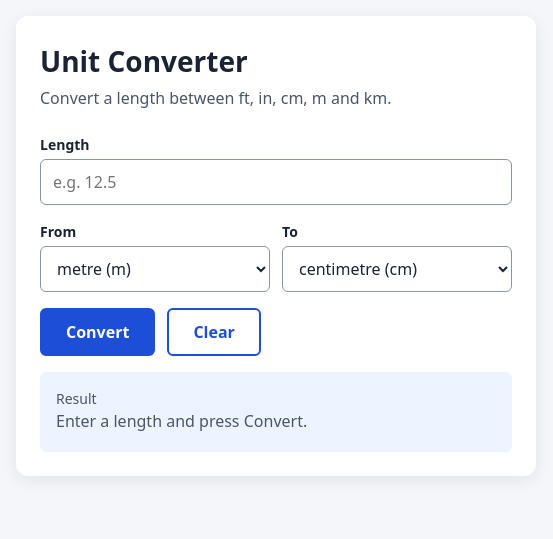
S4: inline error messages › S4: input -5 + Convert shows Length cannot be negative and no result
In the field labelled "Length": (276, 182) [40,159,512,205], type "-5"
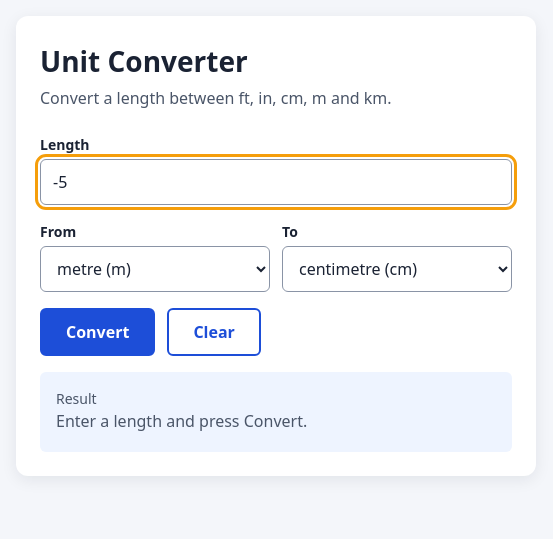
Select "metre (m)" in the dropdown labelled "From": (155, 269) [40,246,270,292]
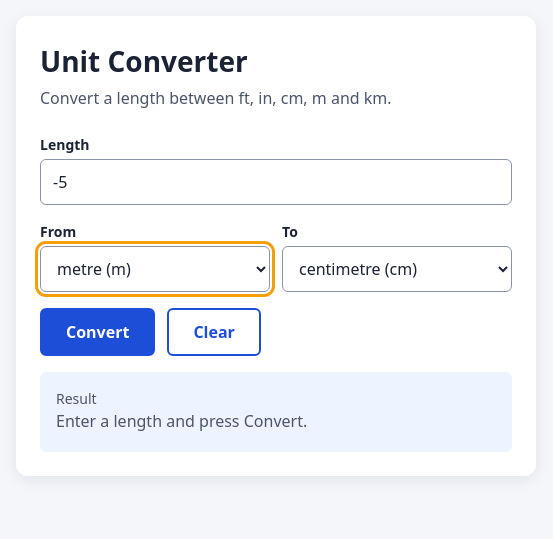
Select "centimetre (cm)" in the dropdown labelled "To": (397, 269) [282,246,512,292]
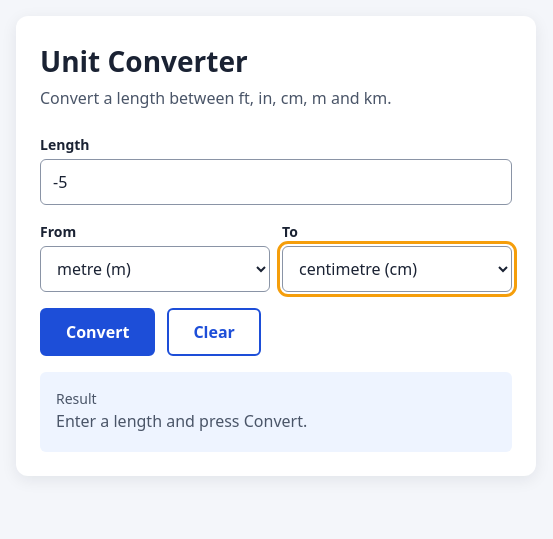
Click the button "Convert": (98, 332) [40,308,155,356]
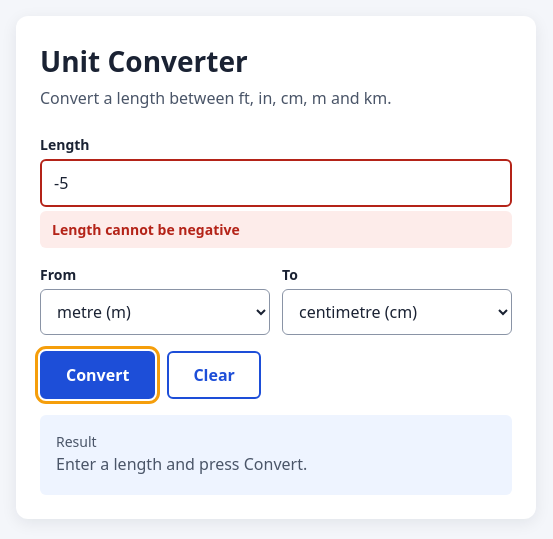
Result: the message reads "Length cannot be negative" at [52,220,240,239]
